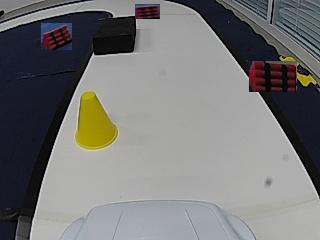block: (93, 15, 135, 54)
cone: (75, 92, 118, 151)
